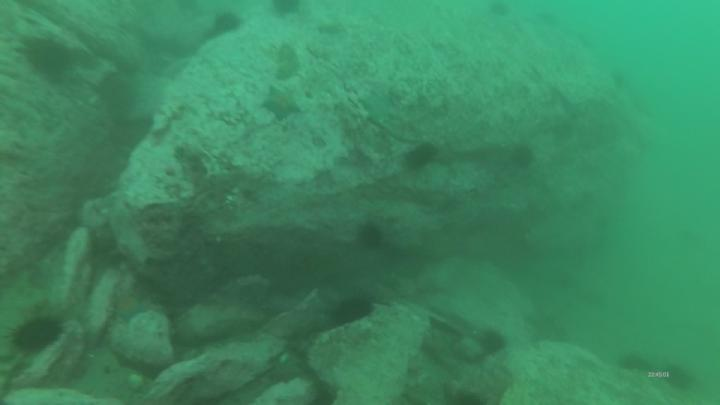echinus: (22, 35, 77, 86), (95, 73, 143, 122), (11, 316, 67, 357), (334, 294, 377, 328), (661, 361, 698, 396), (475, 324, 507, 361), (507, 140, 539, 176), (401, 142, 439, 172), (210, 11, 246, 42), (624, 350, 662, 378), (356, 223, 384, 252), (272, 1, 306, 21), (487, 1, 514, 20)
starfish: (259, 83, 305, 123)
